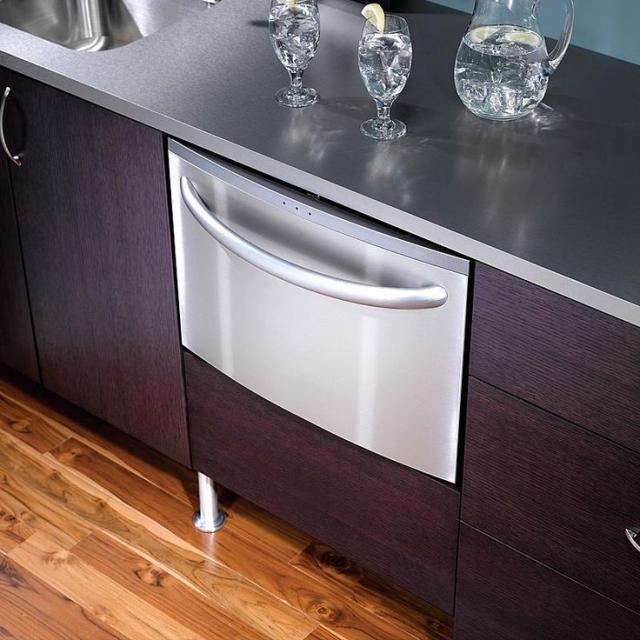dishwasher: (163, 122, 492, 489)
